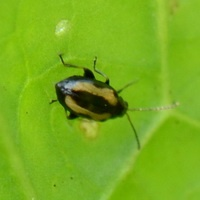insect: (50, 54, 178, 148)
